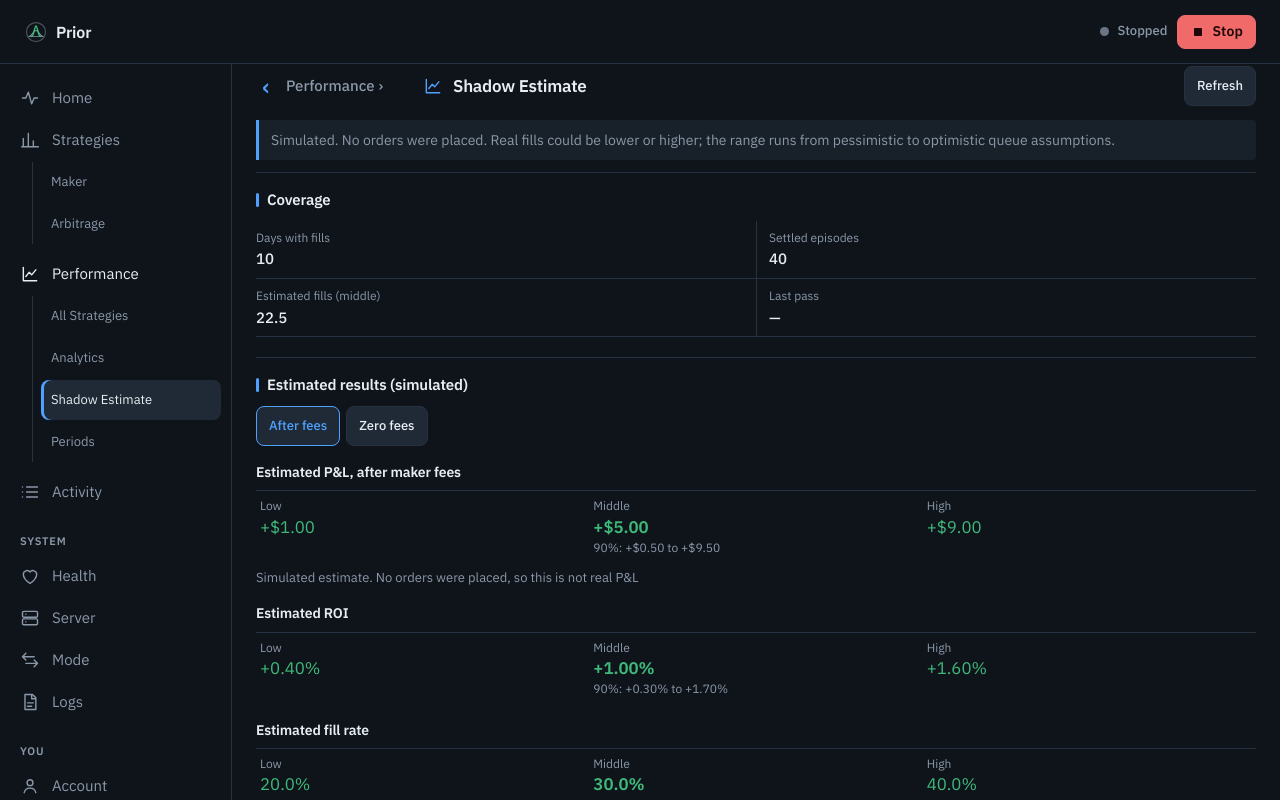
Test: Shadow estimate page › shows the banner, a range, the chart and the caveats, and switches to zero fees
The image size is (1280, 800).
expect the text "Simulated. No orders were placed" is shown: met, box [271,131,1115,149]
expect the heading "Estimated P&L, after maker fees" is shown: met, box [256,463,461,481]
Click the button "Zero fees" at [387, 426], box [346,406,428,446]
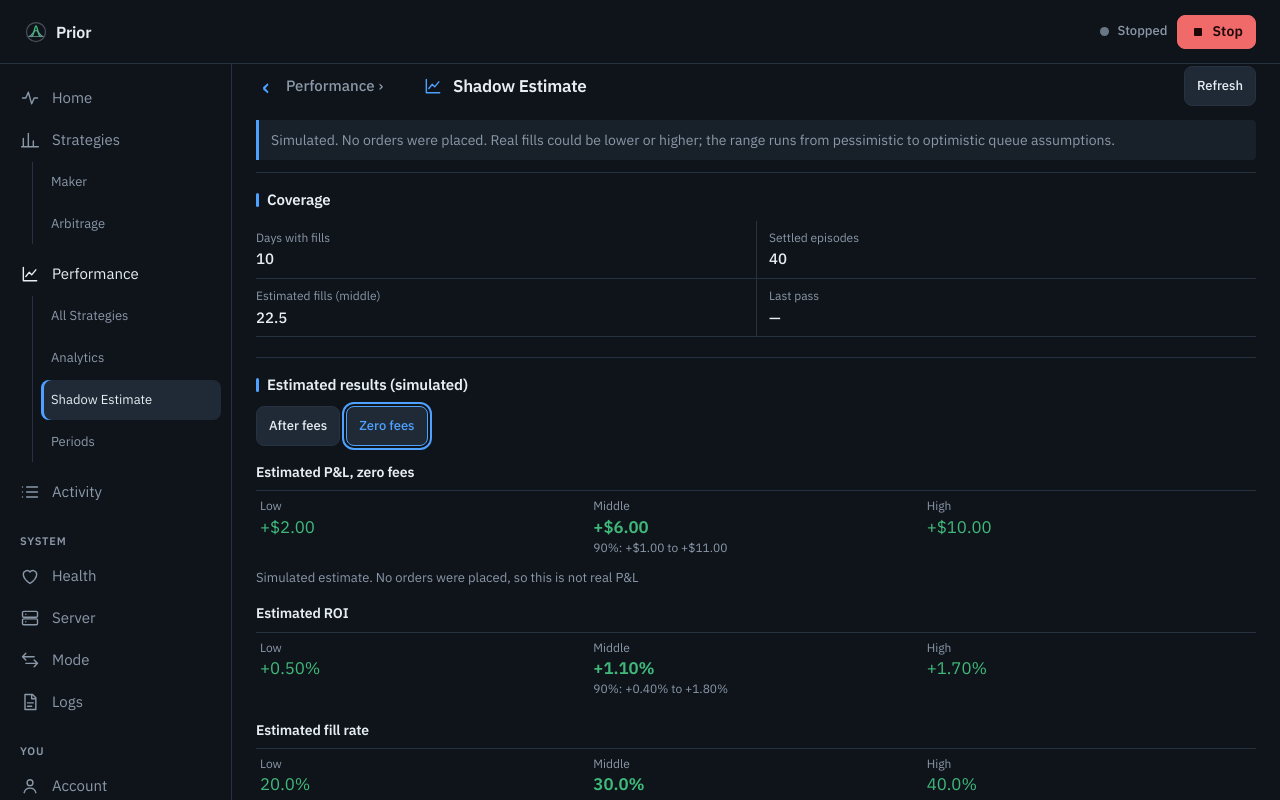
expect the heading "Estimated P&L, zero fees" is shown: met, box [256,463,414,481]
